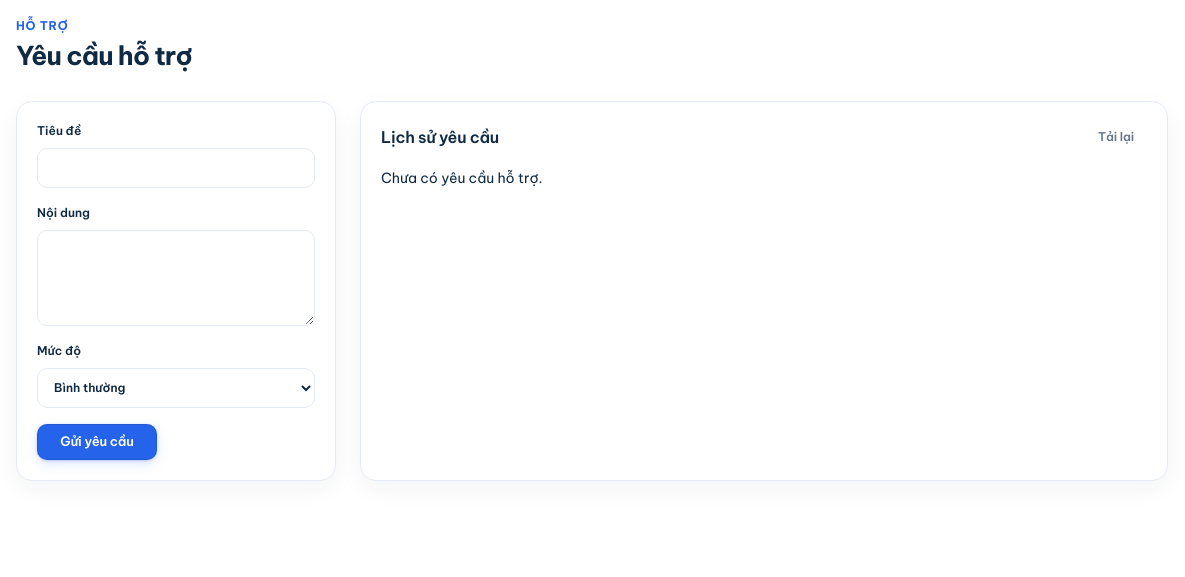
Scenario: support pages › creates a ticket and renders shared success feedback
This screenshot has width=1185, height=577.
Type "Cần hỗ trợ" into the field labelled "Tiêu đề" at [176, 168], box [37, 148, 315, 188]
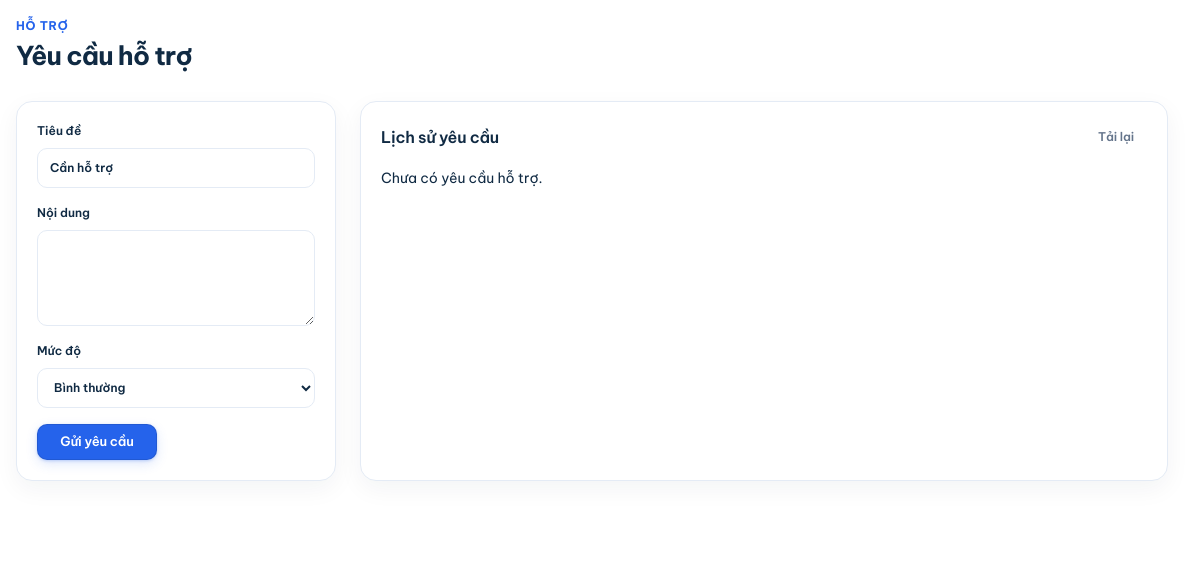
Type "Không mở được lịch tập" into the text box labelled "Nội dung" at [176, 278], box [37, 230, 315, 326]
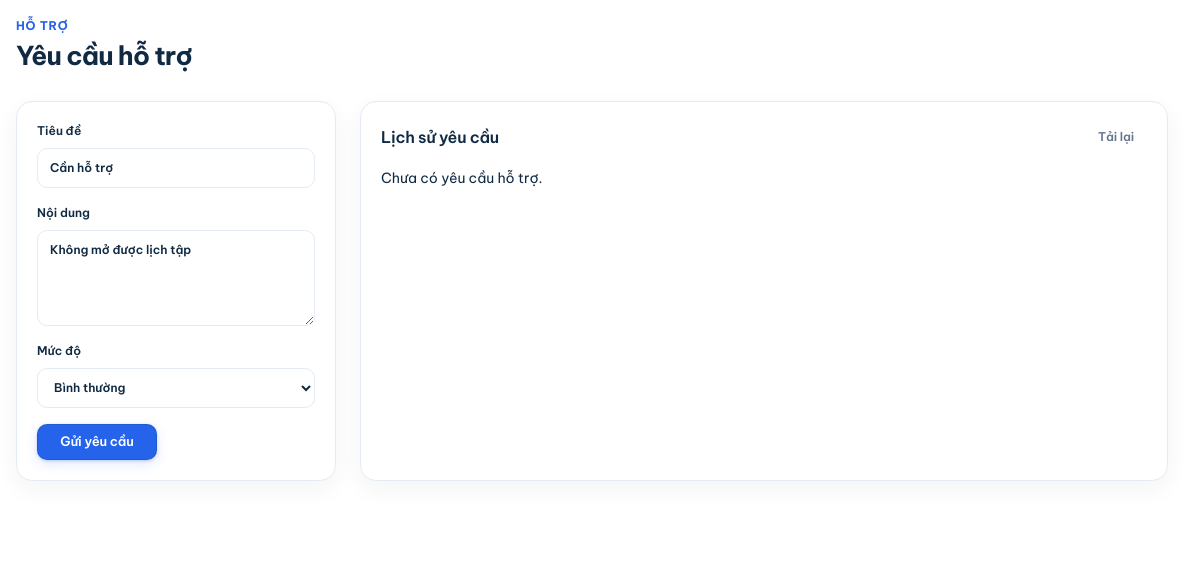
Click the button "Gửi yêu cầu" at [97, 442], box [37, 424, 157, 460]
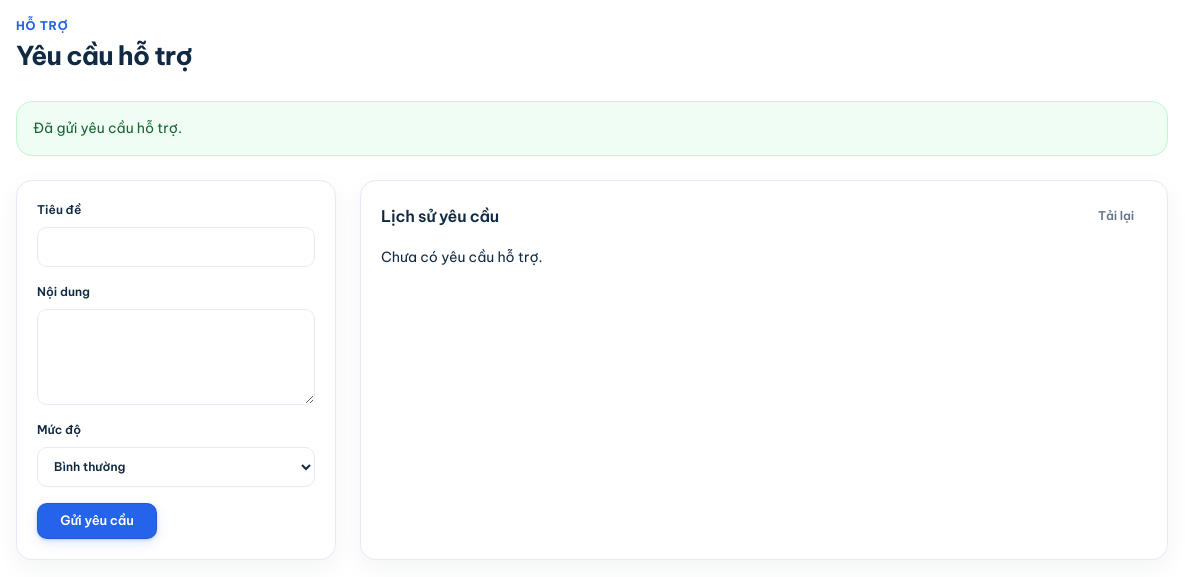
Expected: the message reads "Đã gửi yêu cầu hỗ trợ.", [33, 119, 182, 137]
